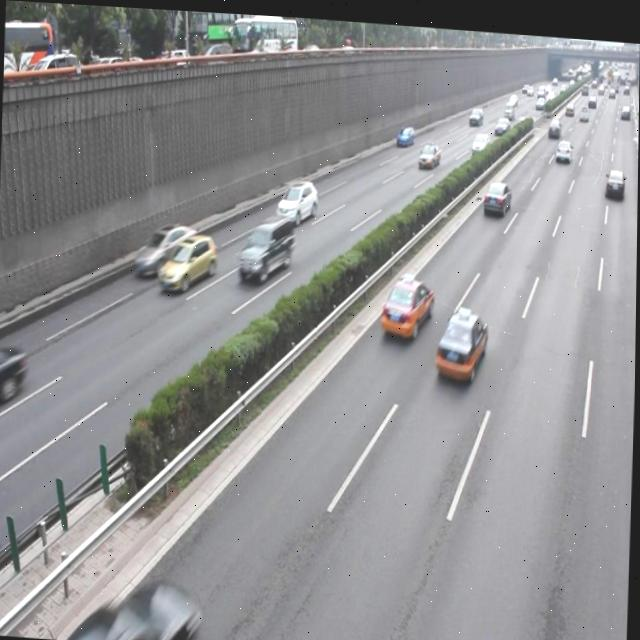car: (73, 569, 203, 640), (237, 204, 295, 283), (134, 216, 201, 279), (434, 299, 487, 377), (157, 226, 217, 292), (379, 268, 434, 337), (276, 172, 318, 223), (0, 340, 29, 412), (481, 171, 510, 212)
